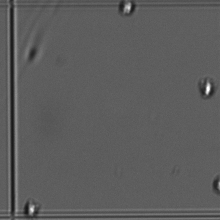Living Cell: (198, 77, 216, 100), (22, 198, 41, 217), (118, 1, 137, 17)
